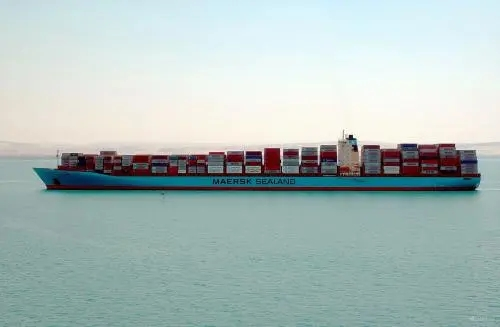Cargoship: (26, 123, 487, 190)
